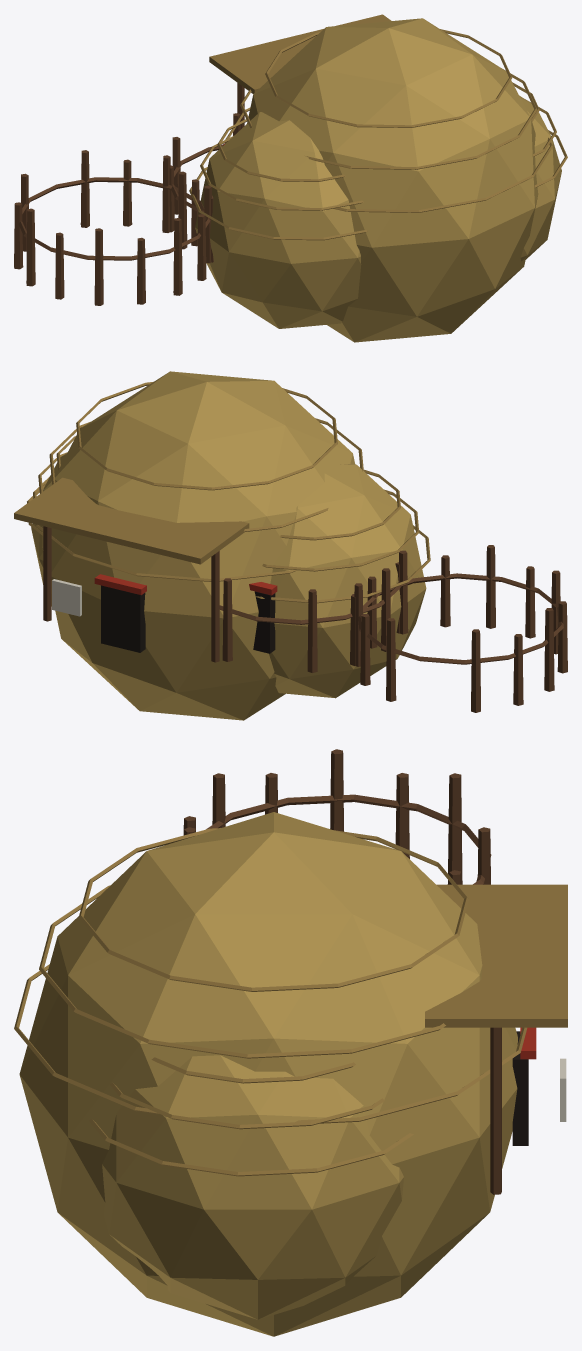
The model's file is elephant_row.glb.
3 views of the same model, one above another, from view 1: azimuth 30°, elevation 25°; view 2: azimuth 150°, elevation 25°; view 3: azimuth 270°, elevation 25° (orthographic). The views are drawn at different scales.
Parts seen in each view (by area): view 1: elephant_row; view 2: elephant_row; view 3: elephant_row.
Part boxes in pixels (x1,y1,x2,y2): elephant_row: (14,14,567,342); elephant_row: (14,371,567,720); elephant_row: (14,749,567,1336).
Bounding box in the file's own units: 3.76 × 2.18 × 2.26.
